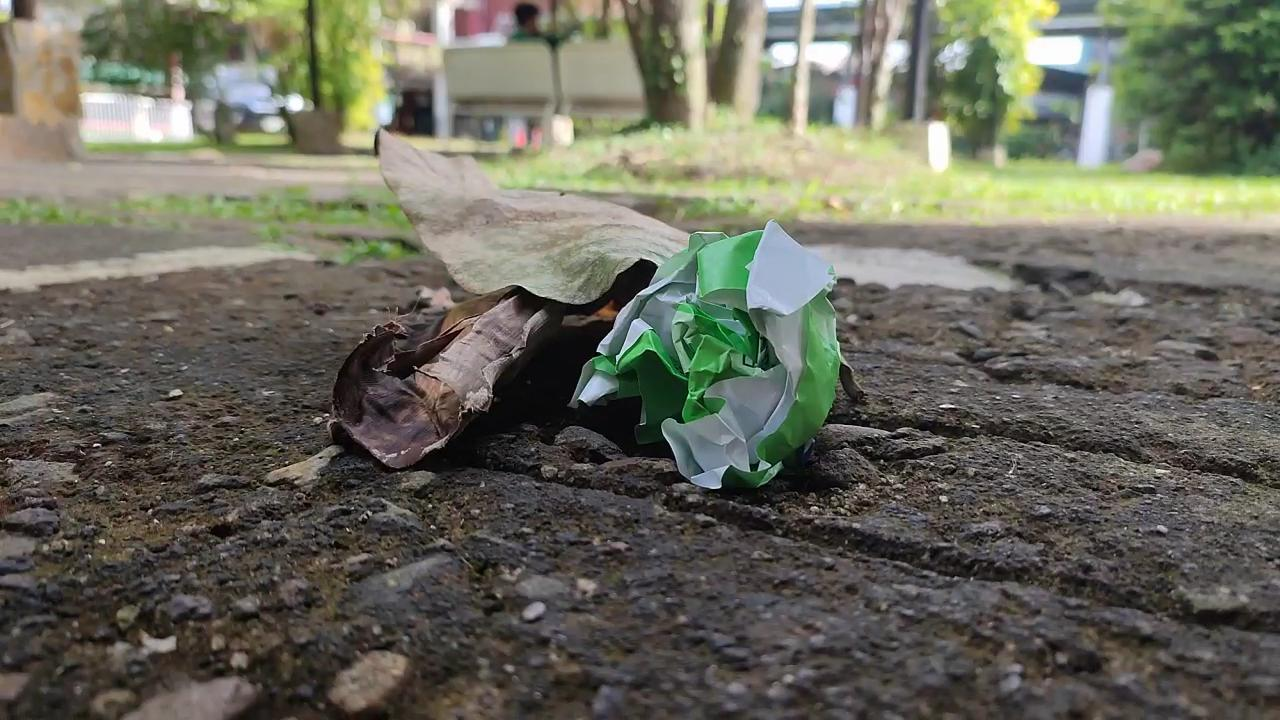Paper: (553, 202, 859, 497)
